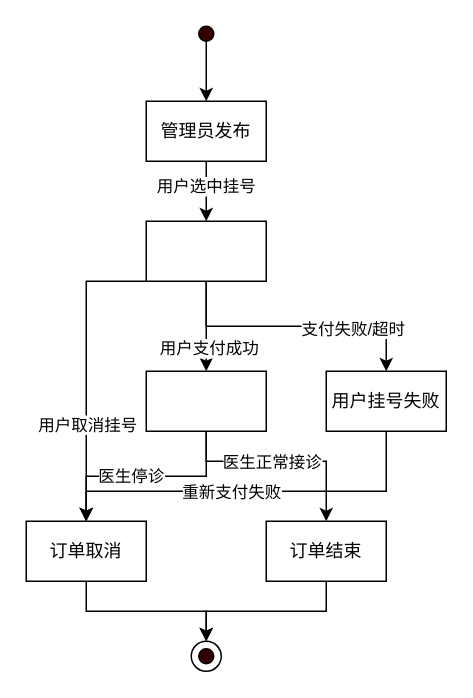
This 473x698 diagram has some shape labels left out. Each missing label, with the centre of its shape:
"待支付" belongs at point (205, 250).
"用户挂号成功" belongs at point (205, 400).
